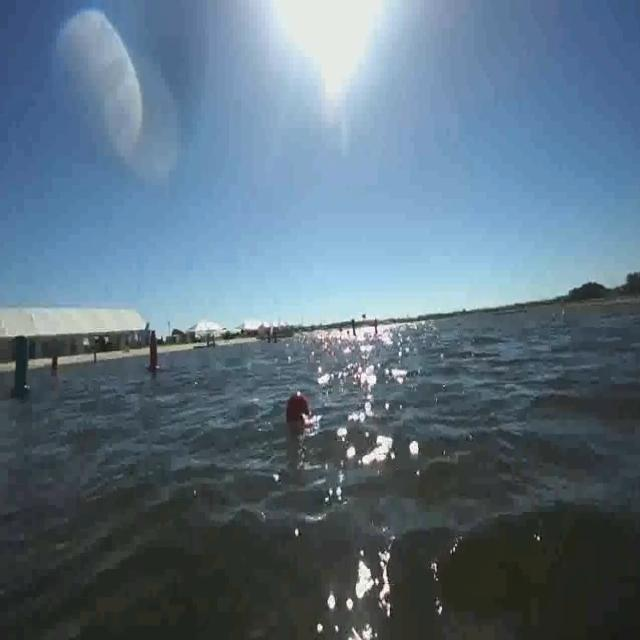green-column-buoy: (9, 334, 32, 398)
red-buoy: (285, 386, 312, 424)
red-column-buoy: (147, 332, 161, 373), (48, 350, 60, 382)
